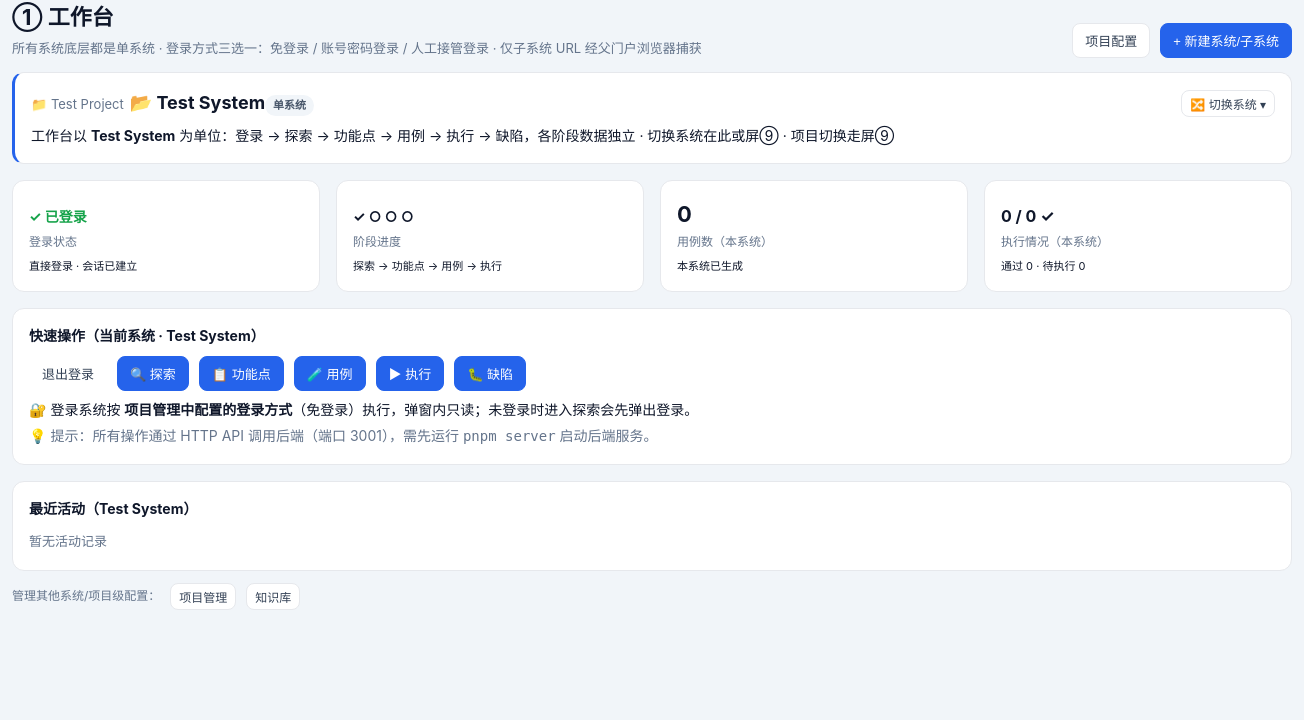
Test case: Workbench 工作台 › 切换系统菜单应可展开并选择
Click the button "🔀 切换系统 ▾".
click(1228, 103)  # box [1181, 90, 1275, 117]
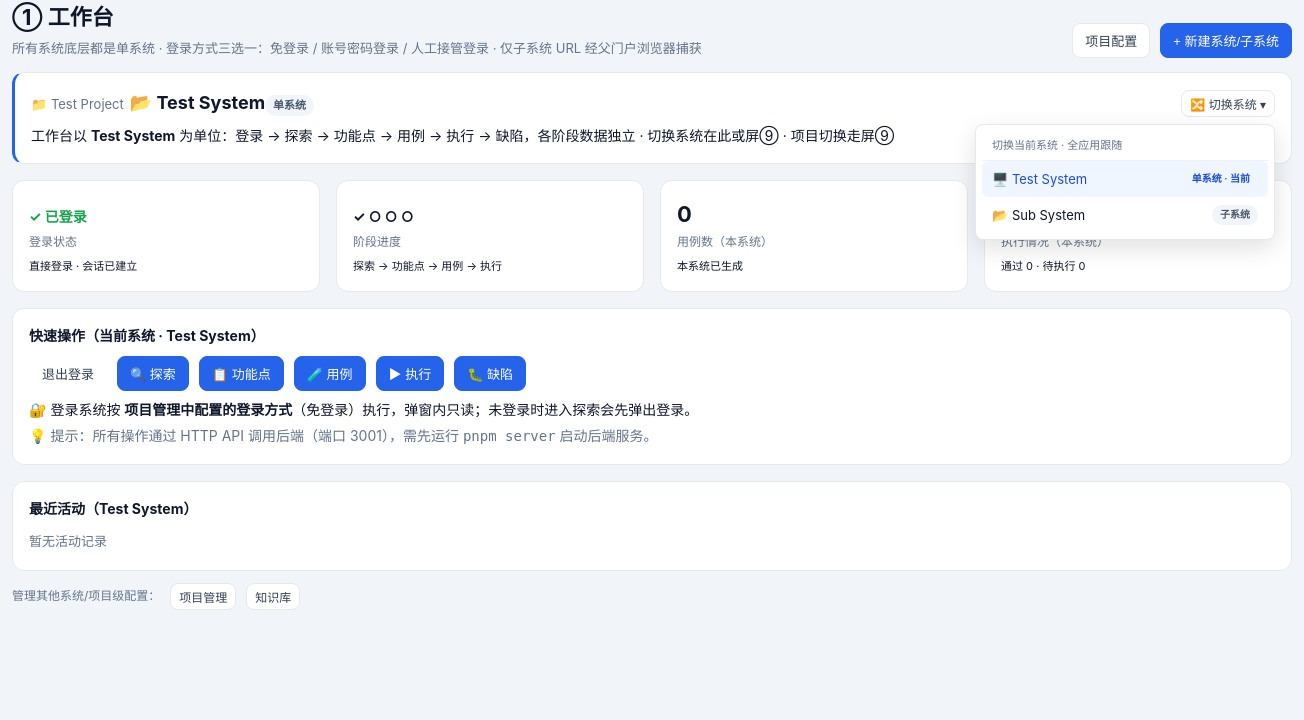
Expected: the text "📂 Sub System" is shown, [992, 205, 1085, 225]
